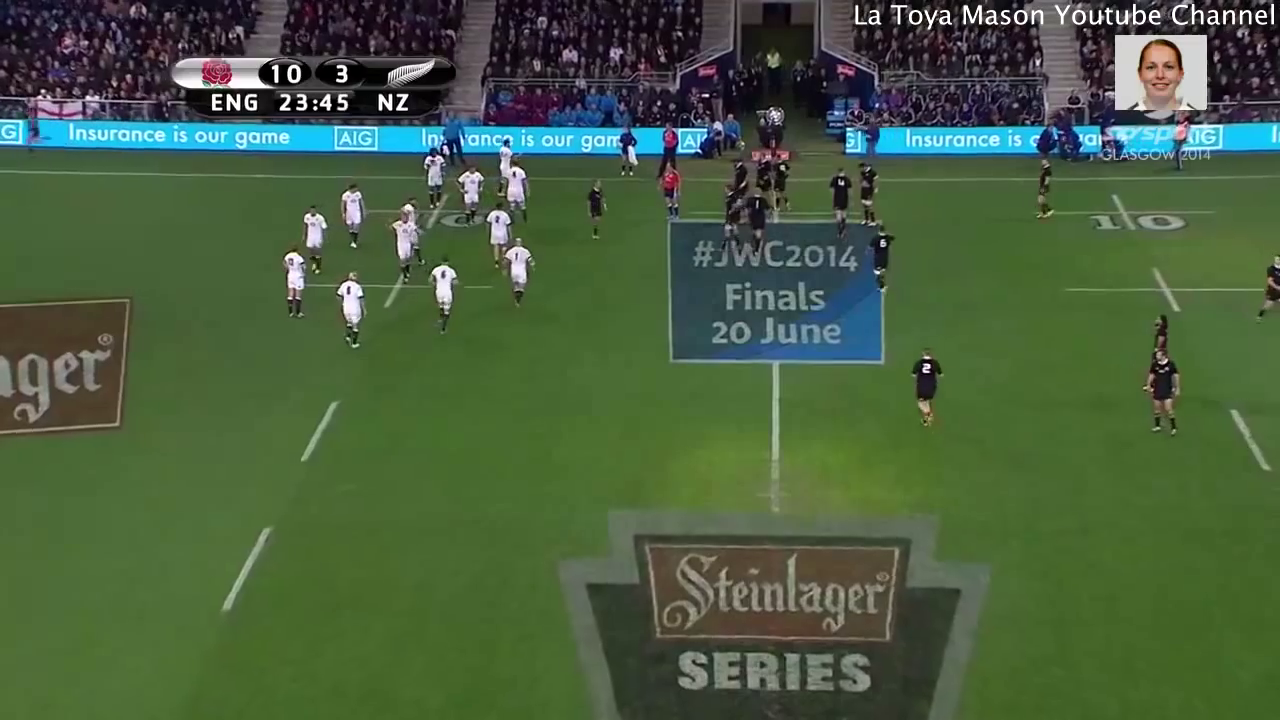player: (889, 334, 963, 440), (1125, 337, 1195, 441), (1132, 302, 1183, 390), (327, 267, 370, 357), (424, 255, 463, 343), (496, 234, 538, 315), (274, 239, 313, 323), (1241, 244, 1280, 326), (1026, 156, 1066, 231), (712, 176, 745, 266), (333, 179, 373, 253), (821, 164, 857, 245), (396, 195, 432, 272), (294, 202, 329, 281), (864, 220, 897, 303), (383, 208, 418, 286), (478, 199, 514, 271), (852, 158, 885, 233), (449, 162, 485, 230), (582, 174, 614, 250), (502, 156, 533, 231), (738, 183, 768, 256), (654, 158, 685, 228), (420, 143, 450, 213), (770, 150, 798, 216), (492, 137, 515, 199), (749, 148, 775, 191), (725, 156, 752, 187)
